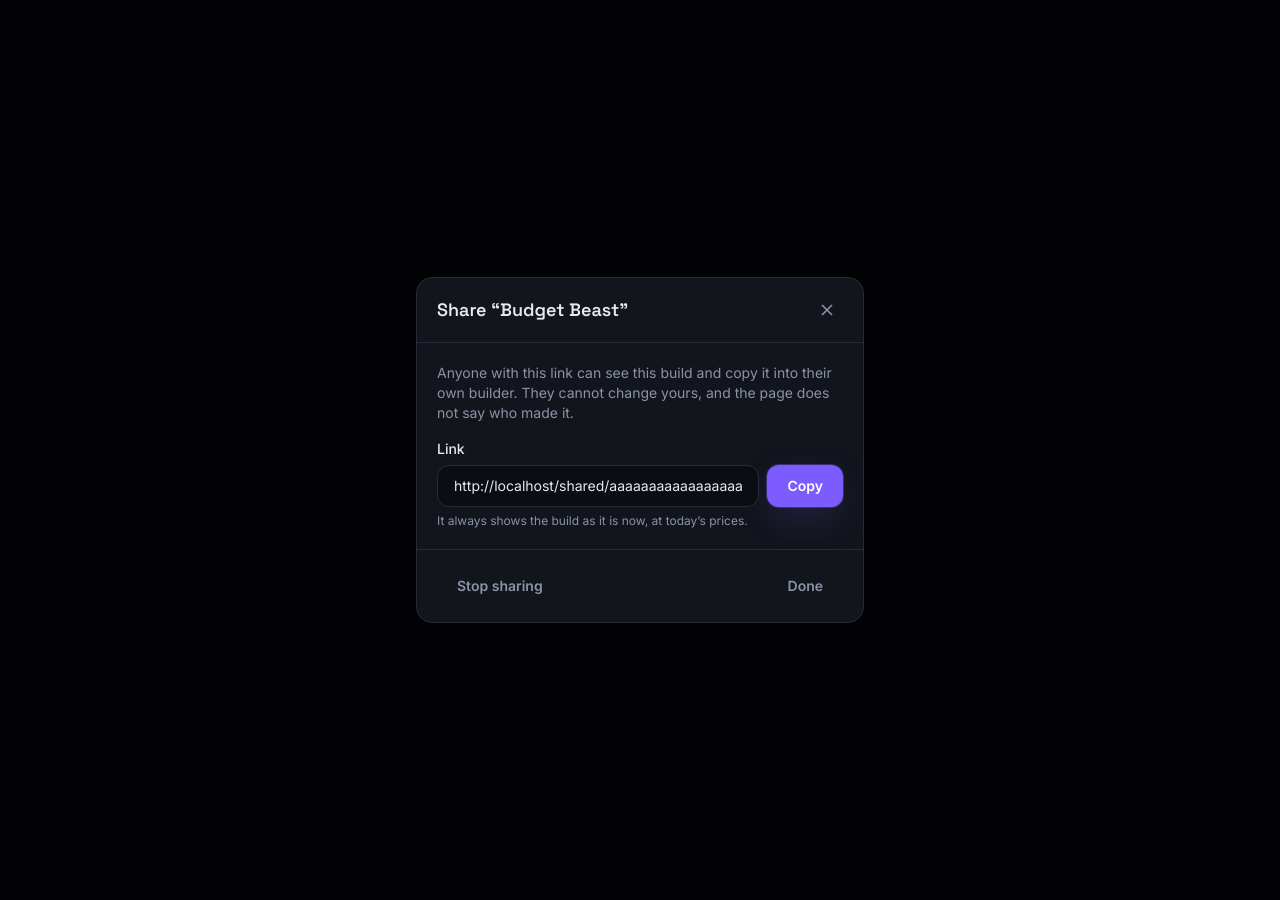
Test: sharing one of my builds › copies the link to the clipboard and says so
Step 1. Click the button "Copy" → click(805, 486), box [767,465,843,507]
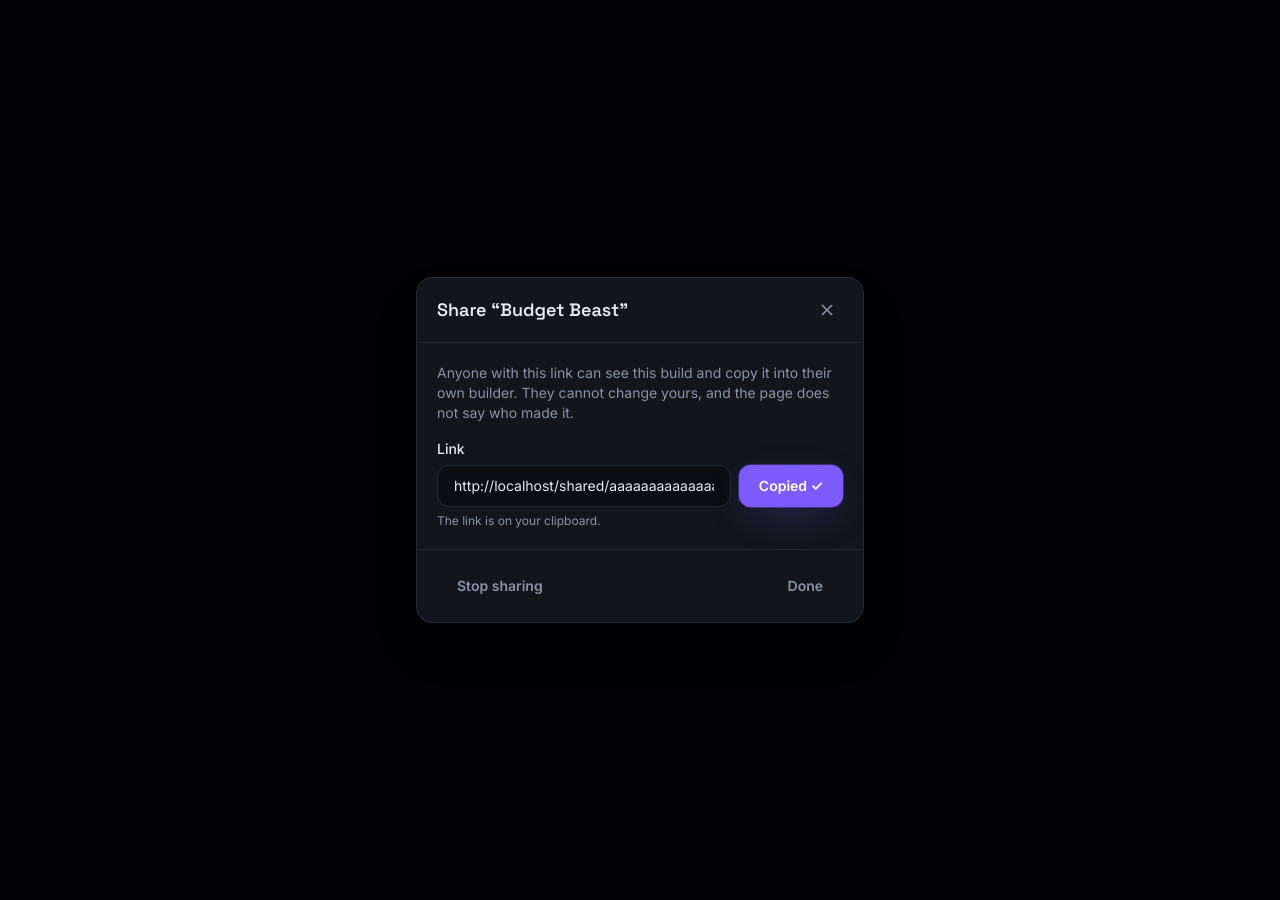
expect the button "Copied ✓" is shown: met, box [739,465,843,507]
expect the text "The link is on your clipboard." is shown: met, box [437,513,601,528]
